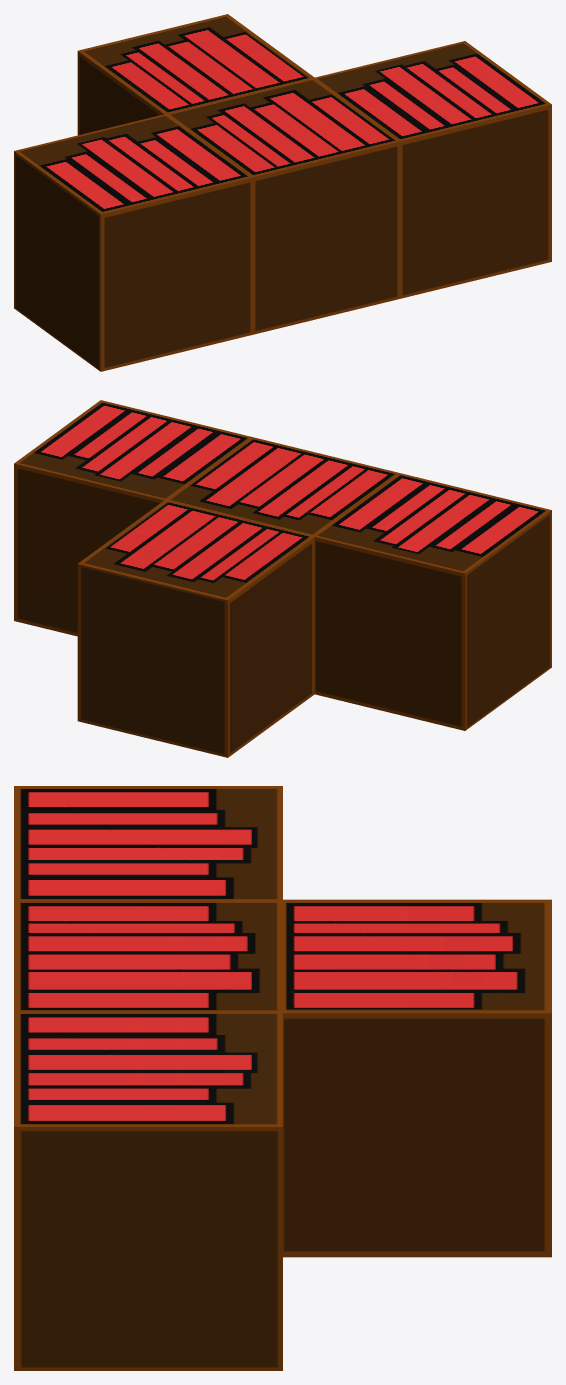
The model's file is TblockTex.fbx.
The picture shows the model from 3 angles, top to bottom: view 1: azimuth 30°, elevation 25°; view 2: azimuth 150°, elevation 25°; view 3: azimuth 270°, elevation 25°; orthographic projection. The views are drawn at different scales.
Parts seen in each view (by area): view 1: Cube.004; view 2: Cube.004; view 3: Cube.004.
Part boxes in pixels (box(x1,y1,x2,y2)): Cube.004: box(14, 14, 551, 371); Cube.004: box(14, 400, 551, 757); Cube.004: box(14, 786, 551, 1370).
Bounding box in the file's own units: 12 × 4 × 8.
Materials: 1 (1 with a texture image).
